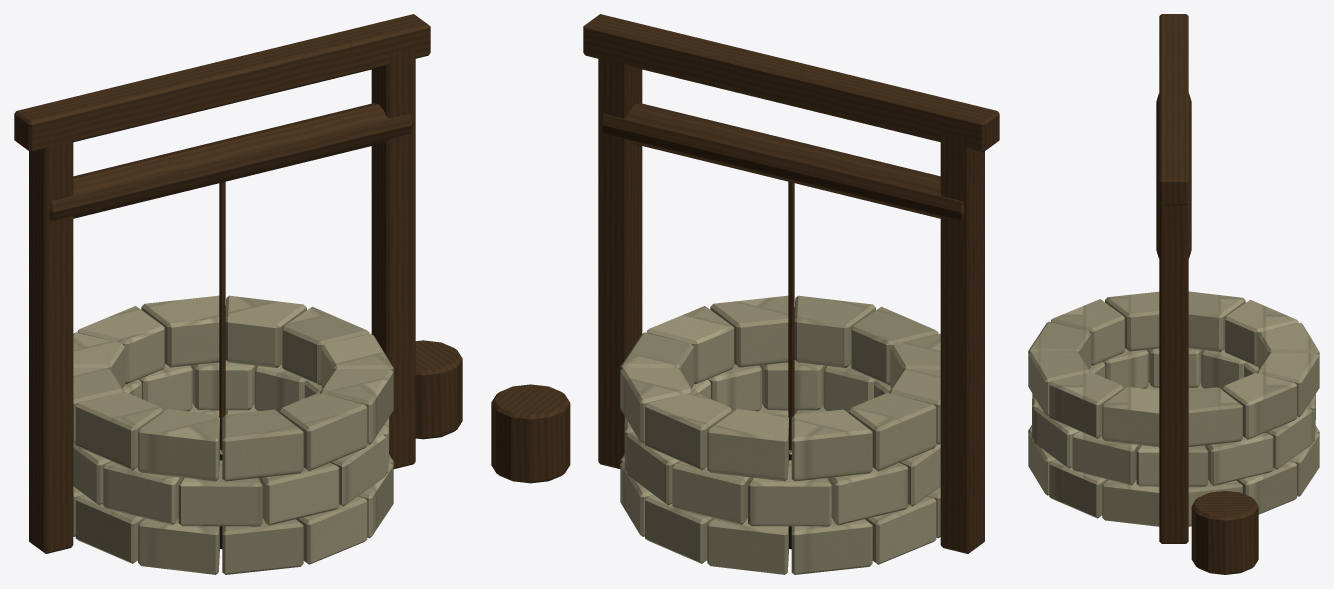
File: well-diXwWAxg.glb
The picture shows the model from 3 angles, left to right: view 1: azimuth 30°, elevation 25°; view 2: azimuth 150°, elevation 25°; view 3: azimuth 270°, elevation 25°; orthographic projection. The views are drawn at different scales.
Parts seen in each view (by area): view 1: well__SW_limestone, well__SW_wood; view 2: well__SW_limestone, well__SW_wood; view 3: well__SW_limestone, well__SW_wood.
Part boxes in pixels (left/top/right/bottom): well__SW_limestone: left=73, top=295, right=393, bottom=574; well__SW_wood: left=14, top=14, right=462, bottom=553; well__SW_limestone: left=620, top=295, right=940, bottom=574; well__SW_wood: left=491, top=14, right=999, bottom=553; well__SW_limestone: left=1028, top=291, right=1319, bottom=526; well__SW_wood: left=1156, top=14, right=1258, bottom=574.
Bounding box in the file's own units: 3.13 × 2.8 × 1.99.
Materials: 3 (3 with a texture image).
